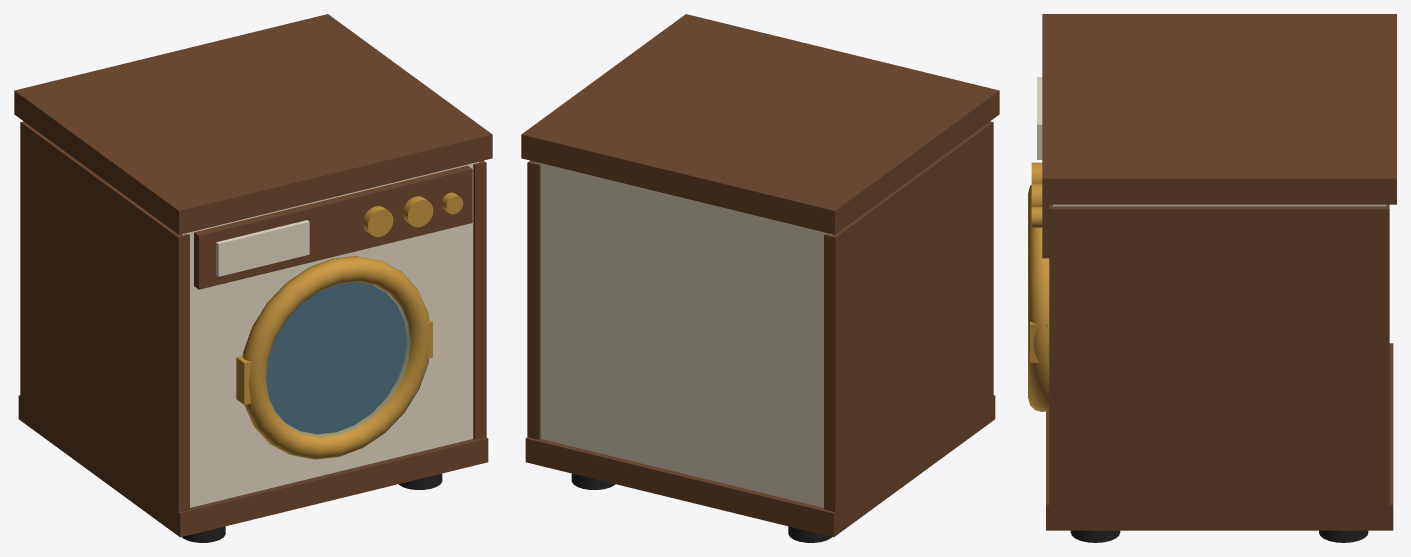
Rendered from lavadora.glb.
3 renders of one model, left to right at view 1: azimuth 30°, elevation 25°; view 2: azimuth 150°, elevation 25°; view 3: azimuth 270°, elevation 25°, orthographic. The views are drawn at different scales.
Parts seen in each view (by area): view 1: TapaSuperior, BandaIzq, Cuerpo, VidrioEscotilla, TamborFondo, MarcoBronce, ZocaloInferior, PanelControl, BandaDer, CajonJabon, Perilla2, Perilla1 (+1 smaller); view 2: Cuerpo, TapaSuperior, BandaIzq, ZocaloInferior, BandaDer; view 3: BandaDer, TapaSuperior, ZocaloInferior, MarcoBronce, Cuerpo, _MeshInstance3D_83426, _MeshInstance3D_83425, CajonJabon.
Part boxes in pixels (x1,y1,x2,y2): TapaSuperior: [14, 14, 492, 234]; BandaIzq: [20, 121, 189, 512]; Cuerpo: [182, 162, 479, 507]; VidrioEscotilla: [266, 282, 410, 437]; TamborFondo: [266, 282, 406, 434]; MarcoBronce: [242, 256, 429, 459]; ZocaloInferior: [18, 395, 488, 537]; PanelControl: [194, 165, 472, 289]; BandaDer: [473, 160, 486, 439]; CajonJabon: [216, 220, 309, 276]; Perilla2: [403, 196, 433, 227]; Perilla1: [363, 206, 393, 236]; Cuerpo: [534, 162, 831, 507]; TapaSuperior: [521, 14, 999, 234]; BandaIzq: [824, 121, 993, 512]; ZocaloInferior: [525, 395, 995, 537]; BandaDer: [527, 160, 540, 439]; BandaDer: [1049, 204, 1389, 513]; TapaSuperior: [1042, 14, 1396, 204]; ZocaloInferior: [1046, 343, 1393, 530]; MarcoBronce: [1028, 185, 1049, 411]; Cuerpo: [1053, 204, 1386, 206]; _MeshInstance3D_83426: [1070, 530, 1120, 542]; _MeshInstance3D_83425: [1319, 530, 1368, 542]; CajonJabon: [1037, 77, 1042, 159].
Size of the model in its own units: 1.1 by 1.18 by 1.04.
